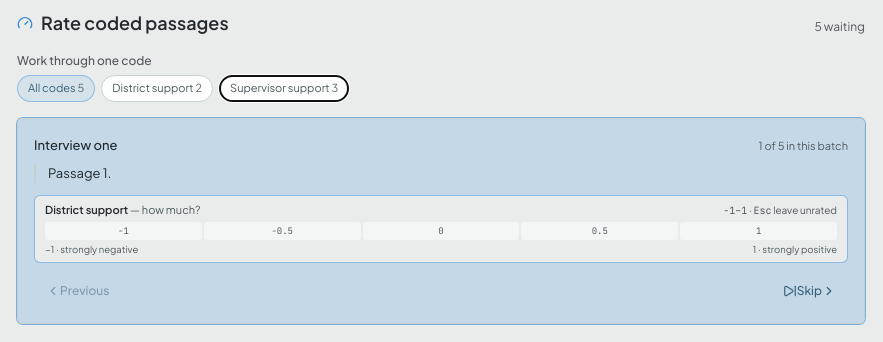
it: #1467 — the chip pressed stays while its queue loads › when the queue answers, the strip takes focus as before
Expected: the text "Passage 1." is shown, [34,162,848,182]
Click the button "Supervisor support 3" at (284, 88), box [219,75,349,102]
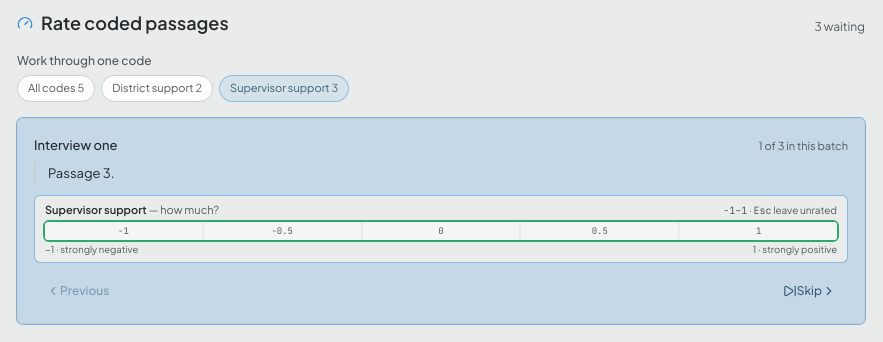
Expected: the element showing "−1 −0.5 0 0.5 1" is shown, [45,222,837,240]
Expected: the text "Passage 3." is shown, [34,162,848,182]
